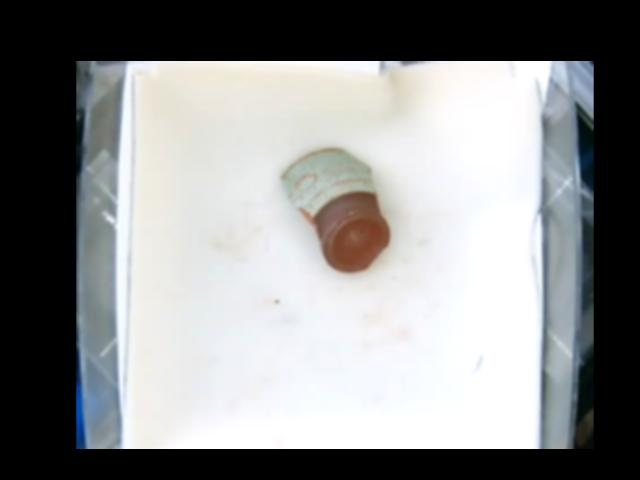China: (282, 148, 389, 268)
